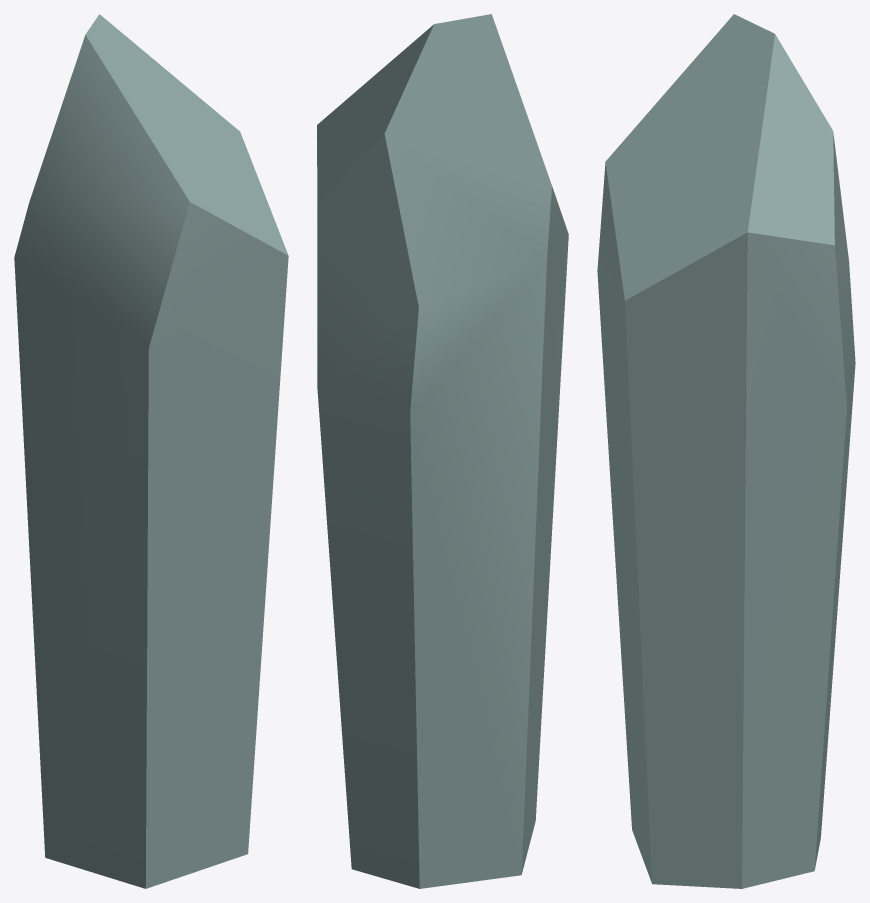
Rendered from Cristal_02.fbx.
The picture shows the model from 3 angles, left to right: view 1: azimuth 30°, elevation 25°; view 2: azimuth 150°, elevation 25°; view 3: azimuth 270°, elevation 25°; orthographic projection. The views are drawn at different scales.
Visible parts, largest first — view 1: Cristal_02; view 2: Cristal_02; view 3: Cristal_02.
Boxes of the visible parts, box(x1,y1,x2,y2) form: Cristal_02: box(14, 14, 288, 888); Cristal_02: box(317, 14, 568, 888); Cristal_02: box(597, 14, 855, 888).
Size of the model in its own units: 2207 by 7714 by 2224.
